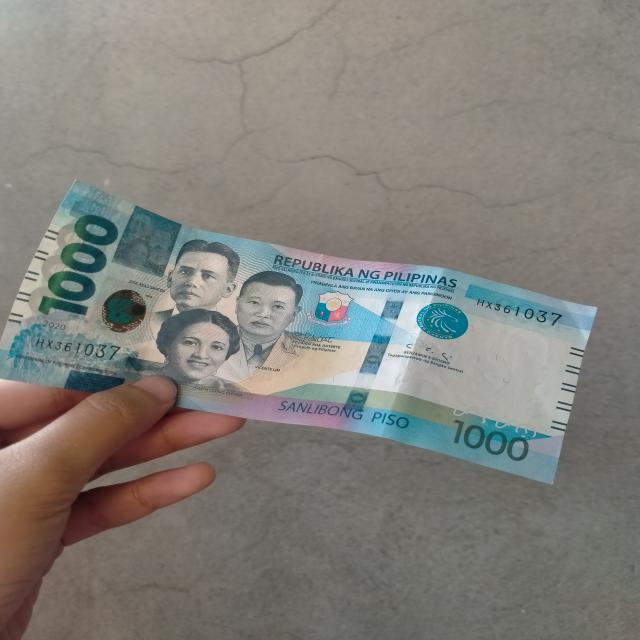concealed_value: (111, 202, 182, 280)
optically_variable_device: (82, 274, 158, 342)
security_thread: (336, 258, 410, 440)
see_through_mark: (445, 400, 549, 445)
serial_number: (464, 286, 567, 337), (22, 328, 133, 368)
value_watermark: (520, 372, 552, 422)
watermark: (457, 300, 553, 403)
